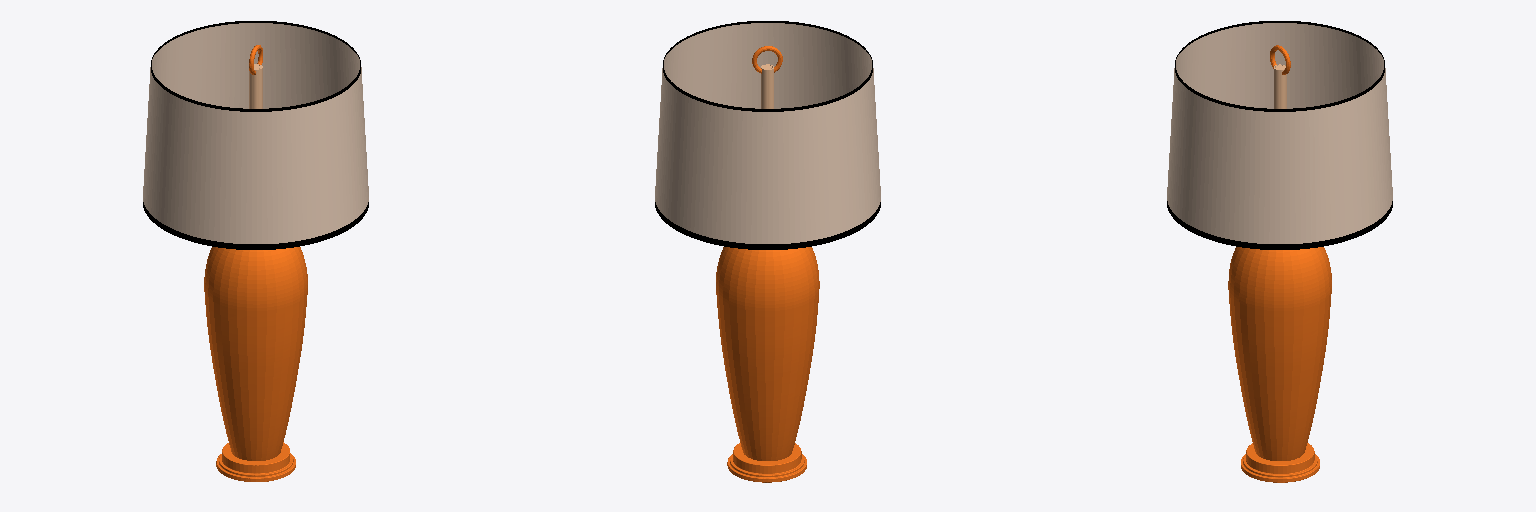
File: light03.obj
The picture shows the model from 3 angles: view 1: azimuth 30°, elevation 25°; view 2: azimuth 150°, elevation 25°; view 3: azimuth 270°, elevation 25°; orthographic projection.
Parts seen in each view (by area): view 1: Object.1; view 2: Object.1; view 3: Object.1.
Boxes of the visible parts, x1=… form: Object.1: x1=143, y1=21, x2=368, y2=481; Object.1: x1=655, y1=21, x2=880, y2=482; Object.1: x1=1167, y1=21, x2=1392, y2=482.
Bounding box in the file's own units: 63.67 × 130 × 63.67.